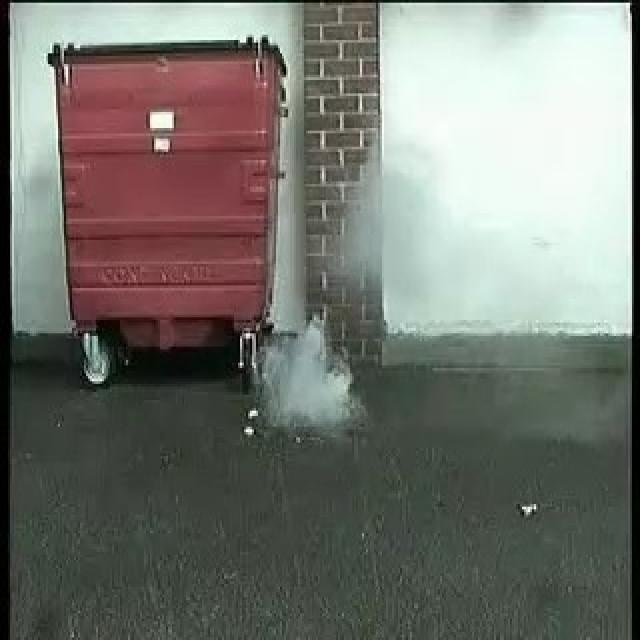smoke: (254, 307, 349, 421)
